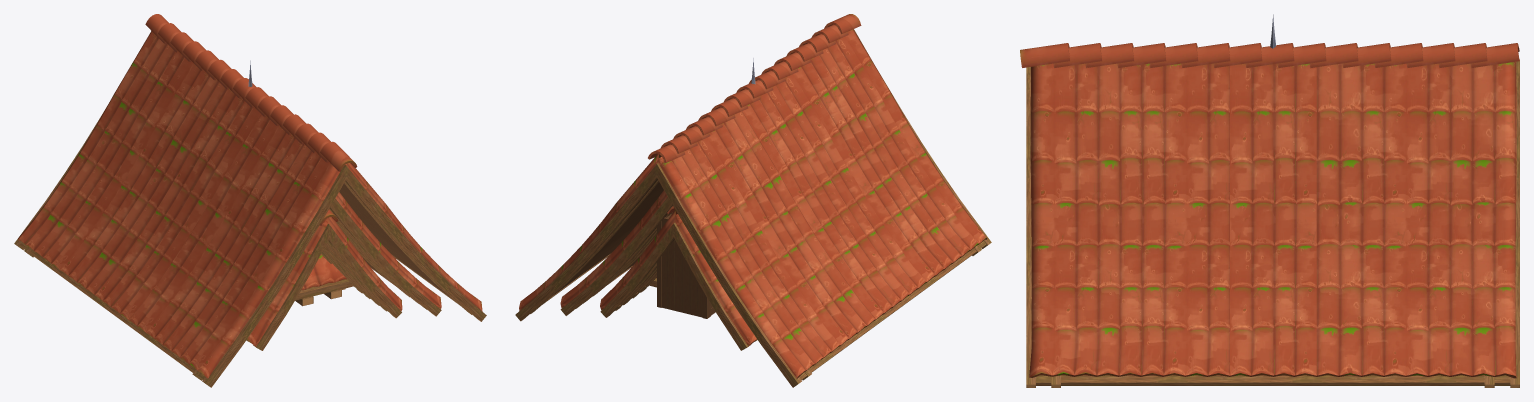
The model's file is village-modular.glb.
3 views of the same model, side by side, from view 1: azimuth 30°, elevation 25°; view 2: azimuth 150°, elevation 25°; view 3: azimuth 270°, elevation 25° (orthographic). The views are drawn at different scales.
Visible parts, largest first — view 1: Roof_RoundTiles_8x10, Roof_RoundTiles_4x8, Roof_RoundTiles_6x8, Roof_Tower_RoundTiles; view 2: Roof_RoundTiles_8x10, Roof_RoundTiles_4x8, Roof_RoundTiles_6x8, Stair_Interior_Solid; view 3: Roof_RoundTiles_8x10.
Boxes of the visible parts, x1,y1,x2,y2 form: Roof_RoundTiles_8x10: (14, 14, 486, 387); Roof_RoundTiles_4x8: (246, 209, 402, 350); Roof_RoundTiles_6x8: (329, 192, 441, 316); Roof_Tower_RoundTiles: (248, 60, 353, 306); Roof_RoundTiles_8x10: (515, 14, 991, 387); Roof_RoundTiles_4x8: (600, 206, 757, 350); Roof_RoundTiles_6x8: (560, 190, 672, 315); Stair_Interior_Solid: (657, 214, 715, 318); Roof_RoundTiles_8x10: (1020, 43, 1519, 387).
Size of the model in its own units: 9.95 by 7.57 by 11.86.
Materials: 8 (7 with a texture image).
